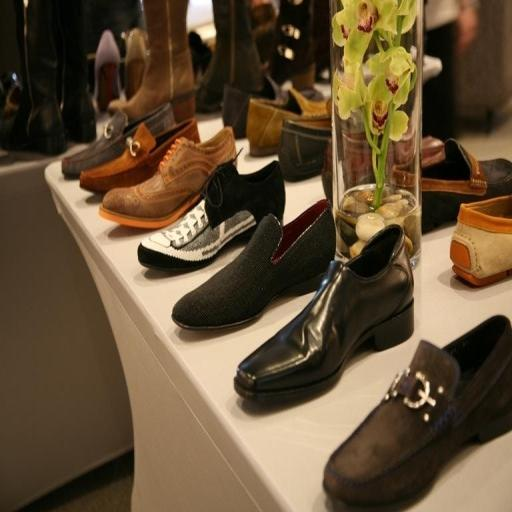boots: (3, 0, 96, 155), (108, 0, 195, 122), (4, 0, 66, 155), (196, 0, 263, 112), (21, 0, 66, 155), (56, 0, 96, 143), (270, 0, 329, 90)
heels: (94, 29, 121, 112)
shoe: (323, 315, 512, 506), (234, 225, 414, 402), (172, 200, 335, 329), (138, 161, 286, 269), (99, 127, 237, 229), (79, 118, 200, 193), (61, 103, 176, 179), (421, 139, 512, 233), (246, 88, 331, 156), (449, 195, 512, 286), (222, 74, 286, 139), (278, 115, 332, 182)
